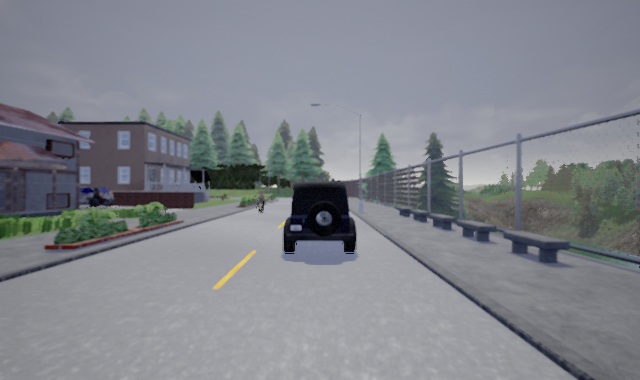bike: (252, 191, 269, 214)
vehicle: (281, 179, 357, 255)
